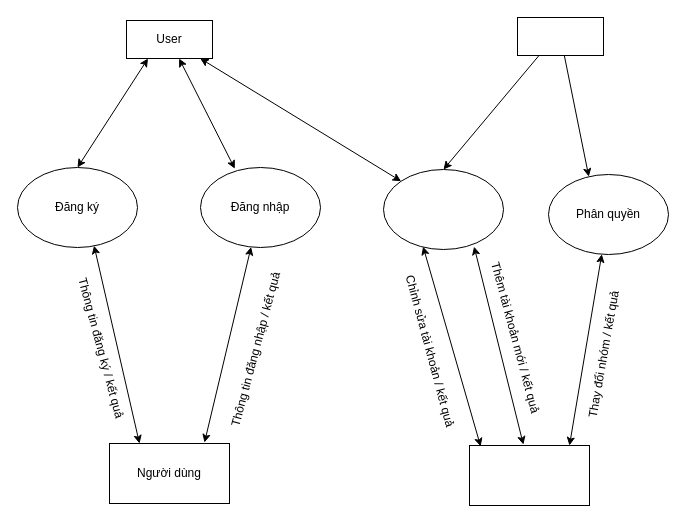
Image size: 686x523. Some labels were removed from this diagram. The centre of each missing label's shape, as x and y in pixels:
Group: (x=560, y=36)
Người quản lý: (x=529, y=475)
Quản lý thông tin thành viên: (x=443, y=209)
